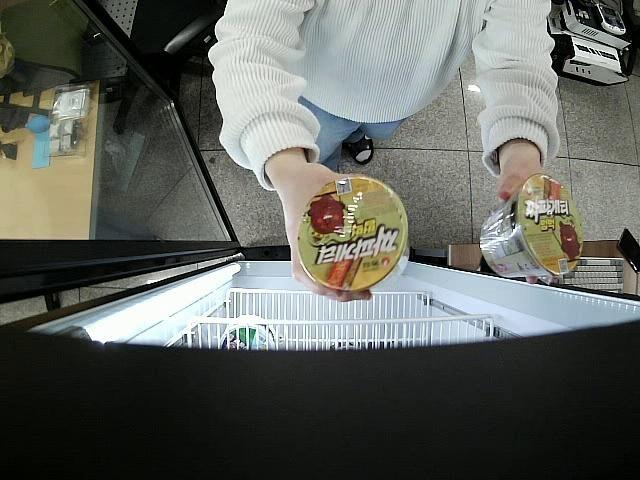04_chapagetti_S: (294, 178, 411, 292), (477, 173, 584, 276)
